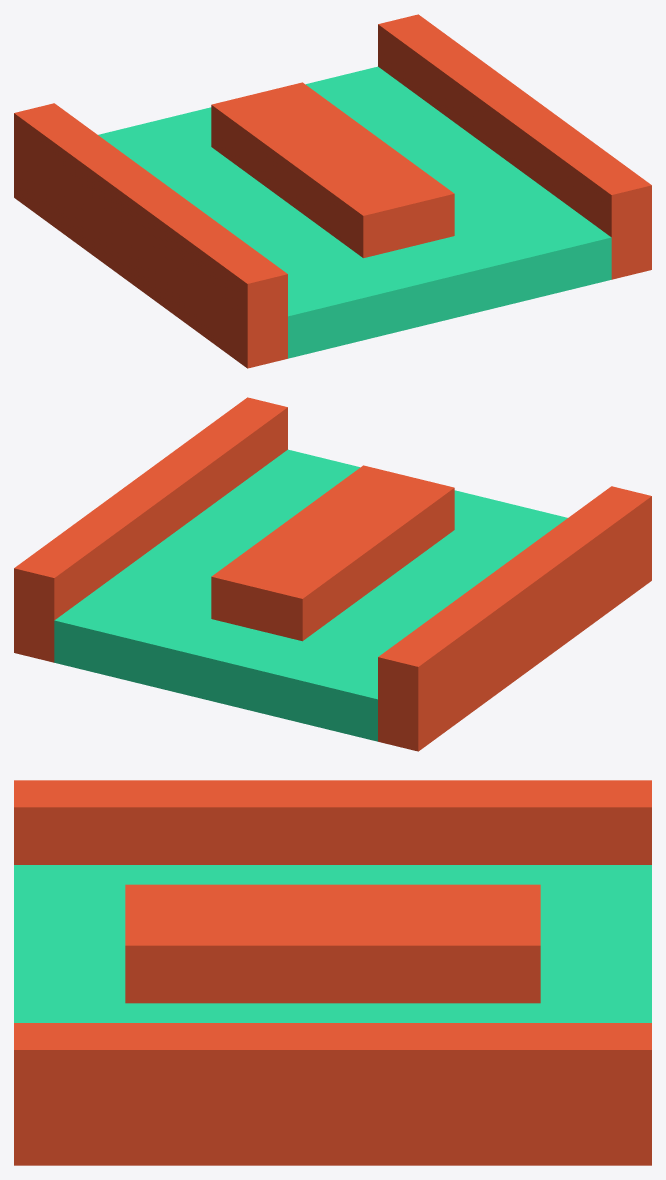
File: track_10.fbx
3 views of the same model, one above another, from view 1: azimuth 30°, elevation 25°; view 2: azimuth 150°, elevation 25°; view 3: azimuth 270°, elevation 25° (orthographic). The views are drawn at different scales.
Visible parts, largest first — view 1: straight_obstacle_square_19; view 2: straight_obstacle_square_19; view 3: straight_obstacle_square_19.
Boxes of the visible parts, x1,y1,x2,y2 form: straight_obstacle_square_19: (14, 14, 651, 368); straight_obstacle_square_19: (14, 397, 651, 751); straight_obstacle_square_19: (14, 780, 651, 1165).
Size of the model in its own units: 10 by 2 by 10.
